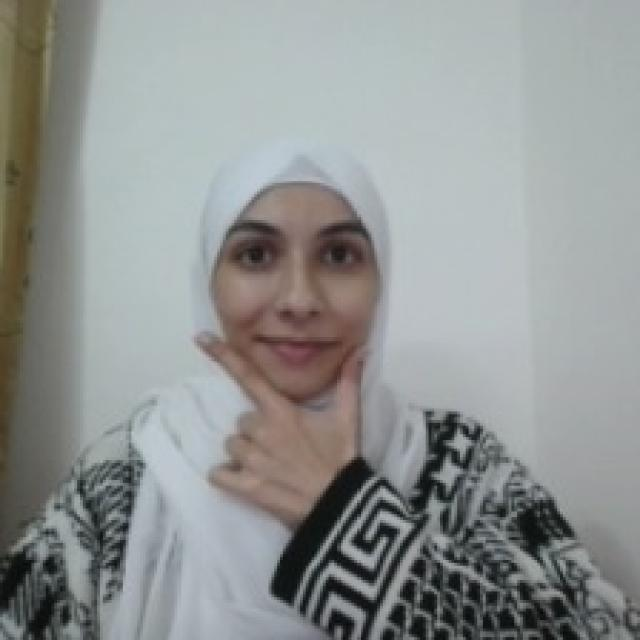smile: (186, 322, 380, 487)
